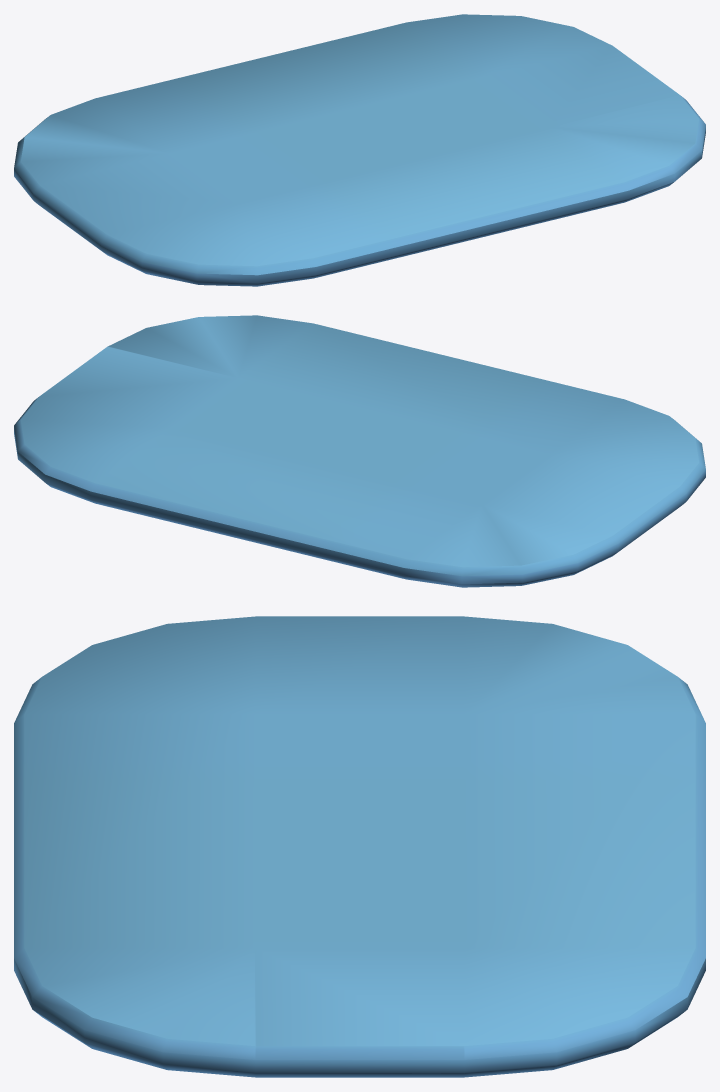
File: rug_oval_B.glb
The picture shows the model from 3 angles, top to bottom: view 1: azimuth 30°, elevation 25°; view 2: azimuth 150°, elevation 25°; view 3: azimuth 270°, elevation 25°; orthographic projection. The views are drawn at different scales.
Visible parts, largest first — view 1: rug_oval_B; view 2: rug_oval_B; view 3: rug_oval_B.
Part boxes in pixels (<box>): rug_oval_B: <box>14,14,705,286</box>; rug_oval_B: <box>14,315,705,587</box>; rug_oval_B: <box>14,616,705,1077</box>.
Bounding box in the file's own units: 3 × 0.1 × 2.
Materials: 1 (1 with a texture image).
